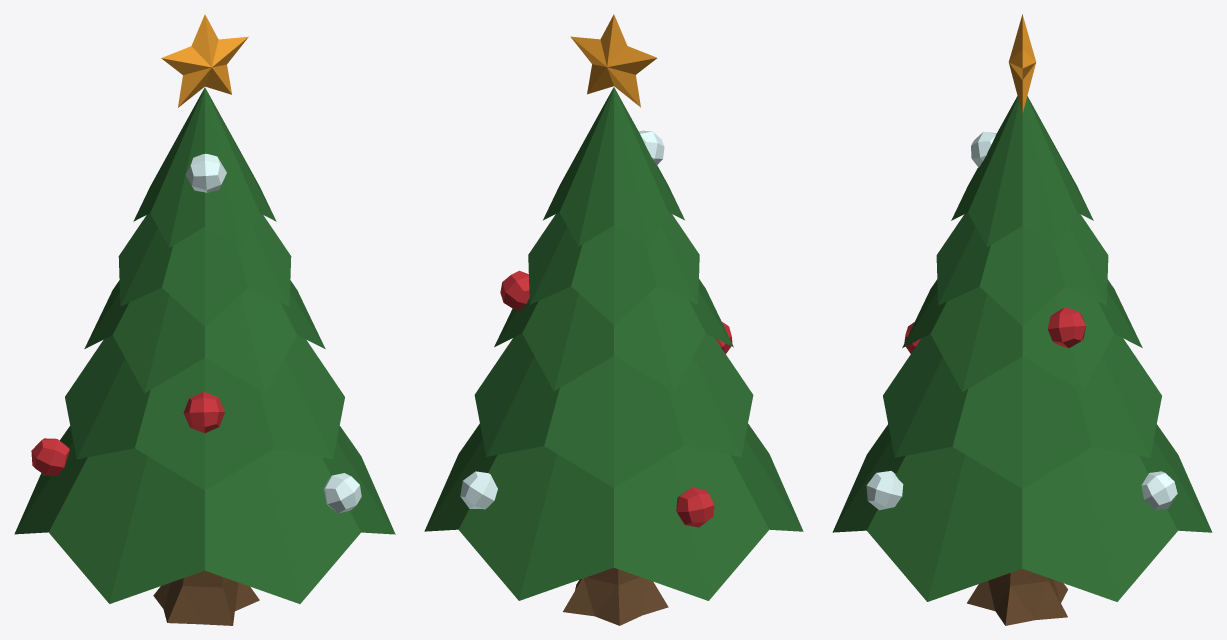
The model's file is tree-christmas.glb.
3 views of the same model, side by side, from view 1: azimuth 30°, elevation 25°; view 2: azimuth 150°, elevation 25°; view 3: azimuth 270°, elevation 25° (orthographic).
Parts seen in each view (by area): view 1: tree-christmas; view 2: tree-christmas; view 3: tree-christmas.
Boxes of the visible parts, <box> form: tree-christmas: <box>14,14,395,625</box>; tree-christmas: <box>424,14,803,625</box>; tree-christmas: <box>832,14,1212,625</box>.
Bounding box in the file's own units: 3.07 × 5.55 × 3.24.
1 material, 1 textured.
